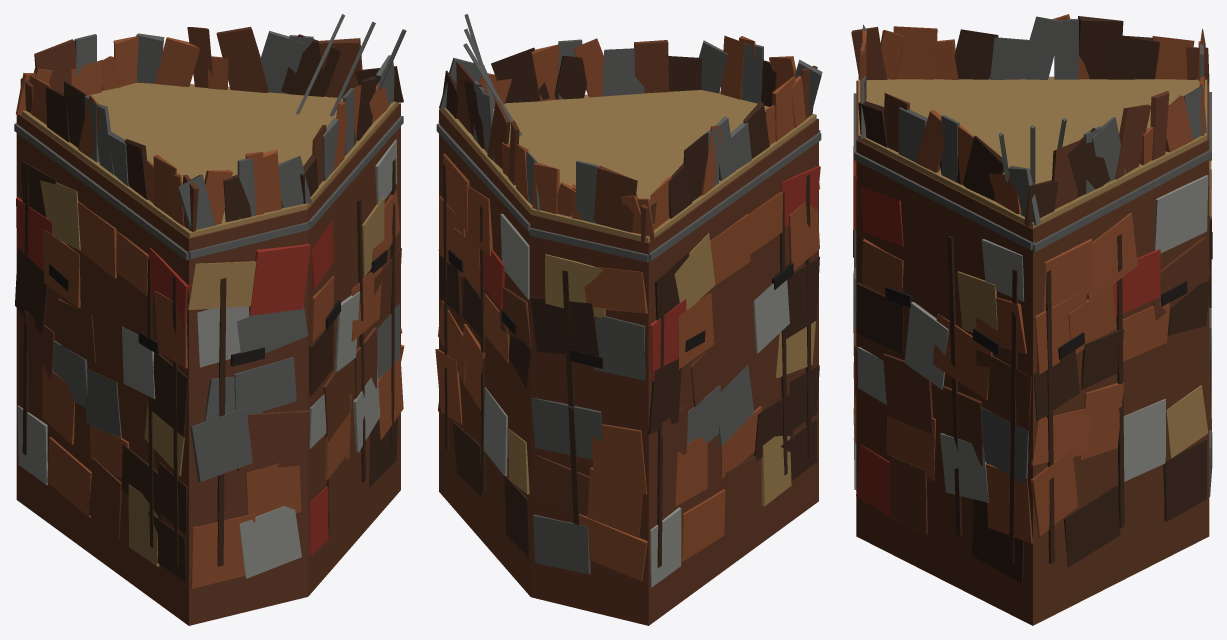
The model's file is fort_scrap_bastion.glb.
The picture shows the model from 3 angles, left to right: view 1: azimuth 30°, elevation 25°; view 2: azimuth 150°, elevation 25°; view 3: azimuth 270°, elevation 25°; orthographic projection. The views are drawn at different scales.
Visible parts, largest first — view 1: fort_scrap_bastion; view 2: fort_scrap_bastion; view 3: fort_scrap_bastion.
Part boxes in pixels (left/top/right/bottom): fort_scrap_bastion: left=14, top=14, right=406, bottom=625; fort_scrap_bastion: left=435, top=14, right=822, bottom=625; fort_scrap_bastion: left=851, top=14, right=1212, bottom=625.
Bounding box in the file's own units: 10.35 × 15.24 × 10.25.
